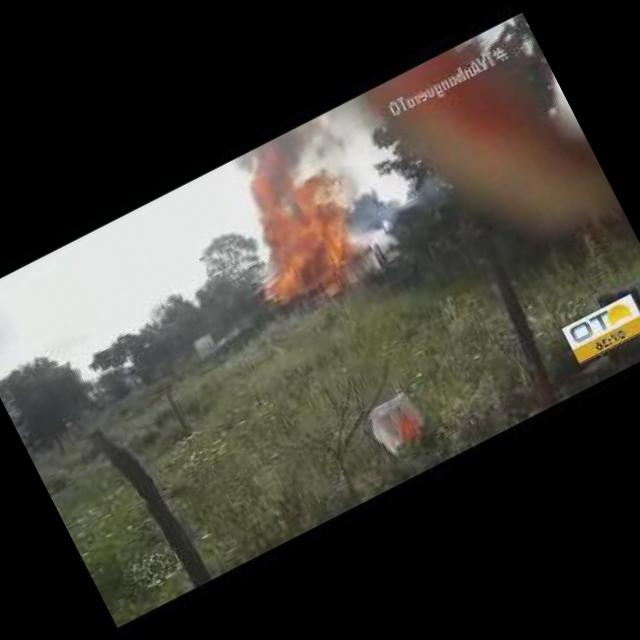fire: (212, 134, 376, 306)
